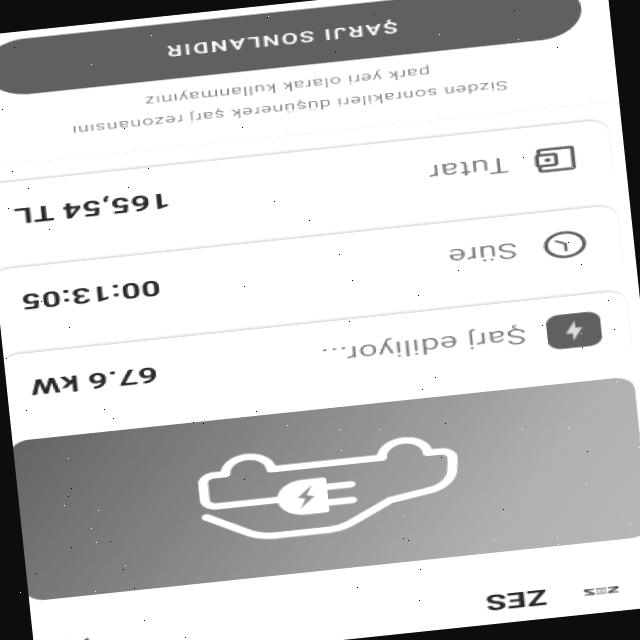QLabel: (64, 73, 511, 139), (136, 60, 433, 106), (160, 14, 406, 58), (318, 319, 530, 367), (9, 190, 174, 227), (16, 277, 166, 311), (26, 363, 161, 396), (422, 154, 512, 181), (443, 240, 520, 266), (484, 585, 550, 613)
VBtn: (0, 0, 584, 98)
VCard: (1, 288, 634, 423), (0, 201, 623, 338), (0, 117, 616, 254)
VFooter: (0, 0, 618, 166)
VIcon: (49, 625, 103, 640)
VImg: (10, 373, 640, 601), (562, 566, 638, 614), (544, 308, 601, 349), (528, 140, 581, 176), (538, 226, 590, 262)
